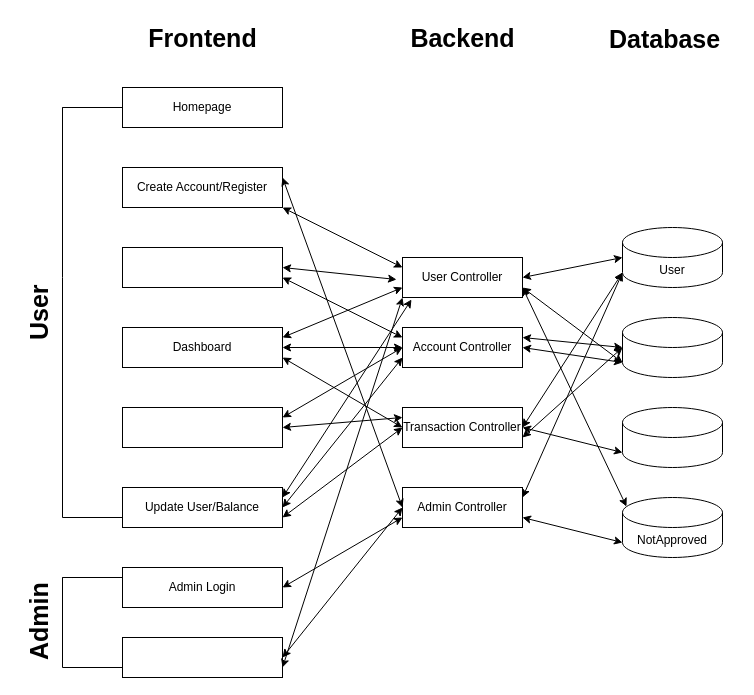
Image size: 754x695. Some labels were removed from this diagram. The box of each missing label's shape, as (x1, y1, x2, y2) in pixels:
Accounts: (622, 316, 722, 378)
Approve/Reject Users: (122, 636, 282, 678)
Login: (122, 246, 282, 288)
Make Transaction: (122, 406, 282, 448)
Transactions: (622, 406, 722, 468)
